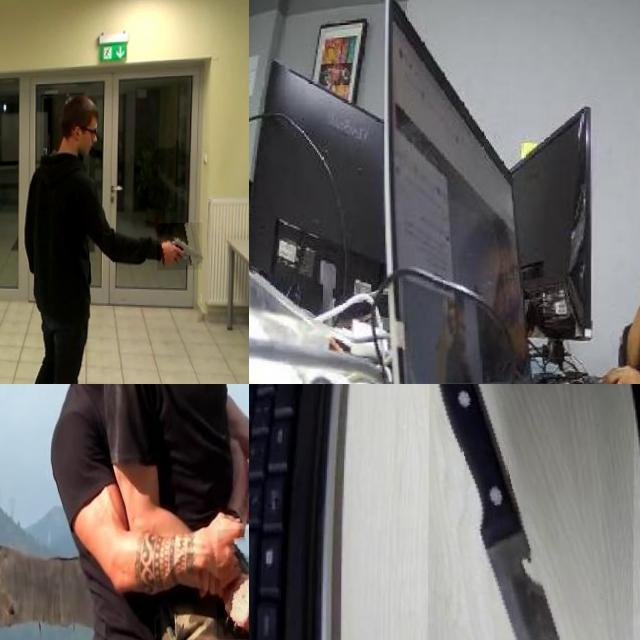-: (426, 384, 634, 640), (217, 529, 249, 640)
gun-knife-thesis - v11 Yolov5 augmented: (158, 226, 202, 274)
